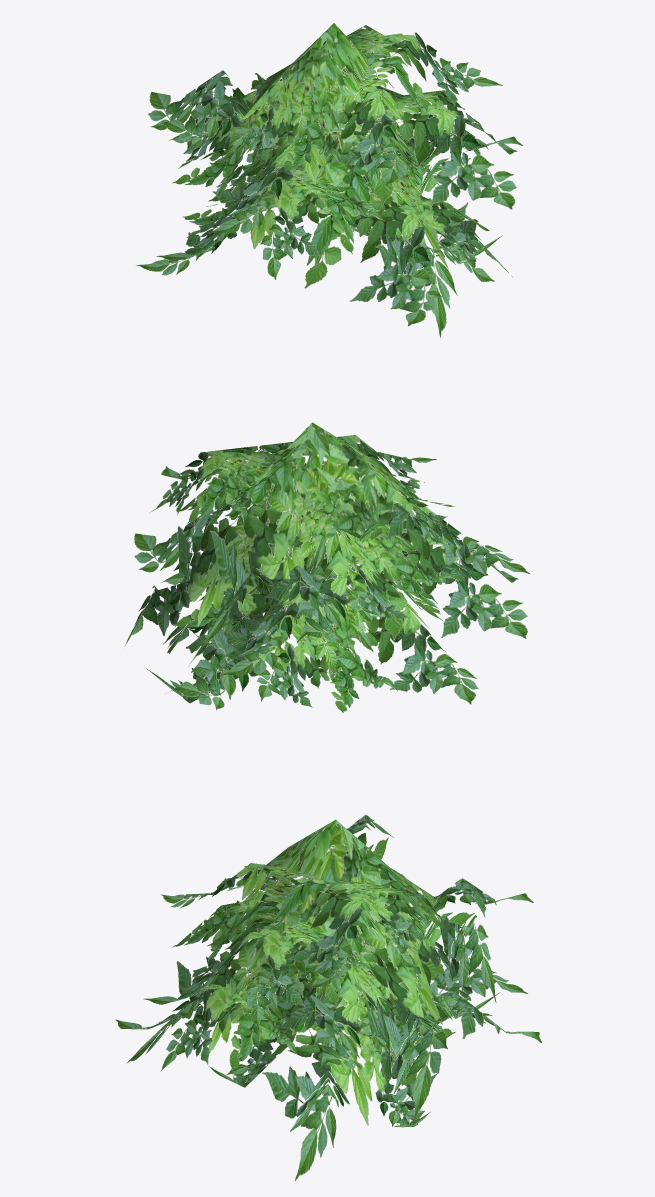
The model's file is leaves.fbx.
The picture shows the model from 3 angles, top to bottom: view 1: azimuth 30°, elevation 25°; view 2: azimuth 150°, elevation 25°; view 3: azimuth 270°, elevation 25°; orthographic projection. The views are drawn at different scales.
Visible parts, largest first — view 1: pPlane1, pPlane2, pPlane3, pPlane4; view 2: pPlane1, pPlane2, pPlane4, pPlane3; view 3: pPlane2, pPlane1, pPlane3, pPlane4.
Boxes of the visible parts, bbox=[...] form: pPlane1: bbox=[158, 23, 502, 185]; pPlane2: bbox=[148, 68, 517, 233]; pPlane3: bbox=[156, 119, 522, 337]; pPlane4: bbox=[136, 144, 512, 326]; pPlane1: bbox=[151, 422, 458, 647]; pPlane2: bbox=[124, 453, 529, 651]; pPlane4: bbox=[146, 559, 478, 712]; pPlane3: bbox=[134, 509, 527, 675]; pPlane2: bbox=[143, 853, 533, 1120]; pPlane1: bbox=[161, 814, 496, 1002]; pPlane3: bbox=[126, 887, 527, 1087]; pPlane4: bbox=[115, 970, 541, 1181].
Bounding box in the file's own units: 17.74 × 8.87 × 17.74.
Materials: 1 (1 with a texture image).
